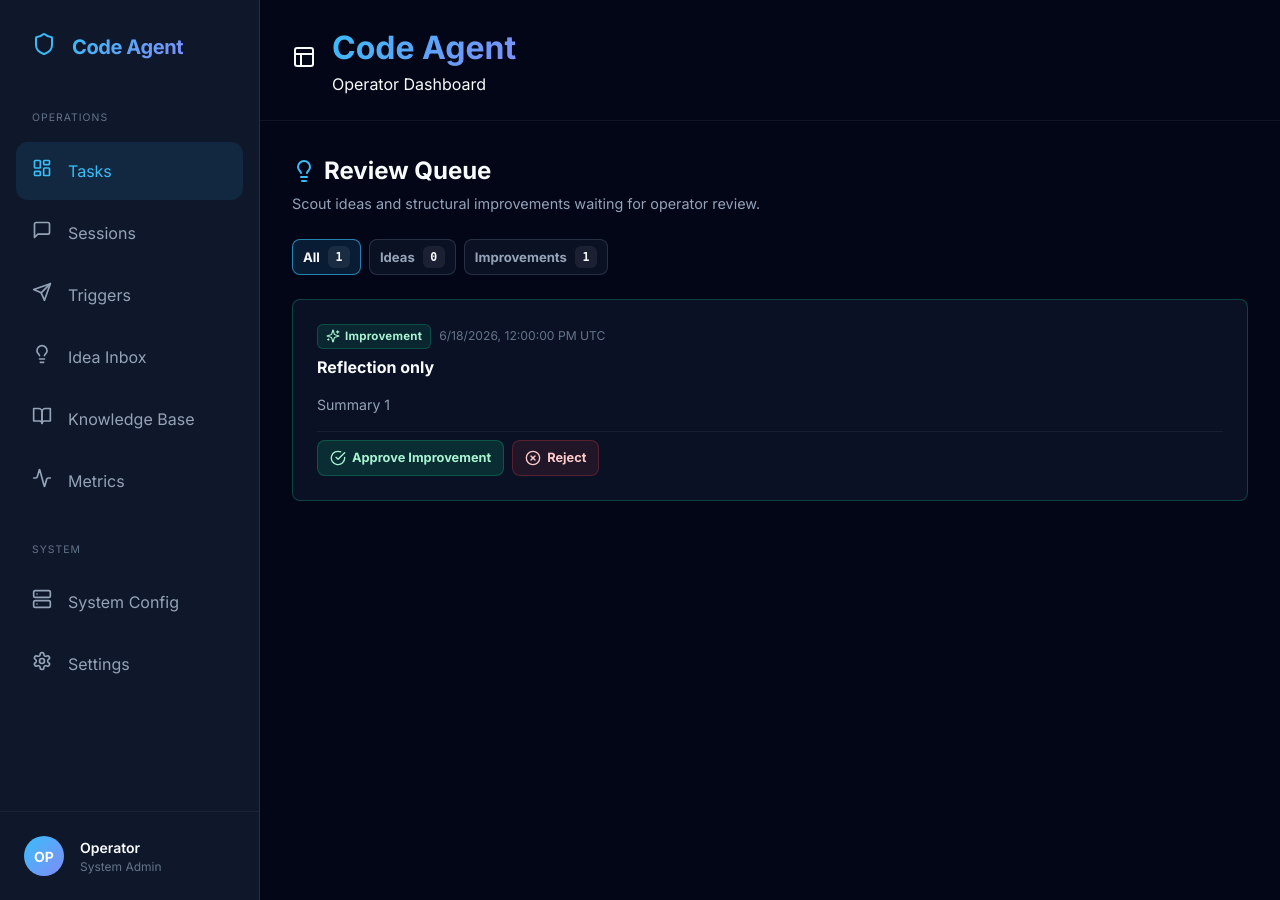
Test: IdeaInboxPage › uses filter-specific empty state labels
Expected: the heading "Reflection only" is shown, [317, 357, 434, 377]
Click the button with aria-label "Show ideas proposals": [412, 257] box [369, 239, 456, 275]
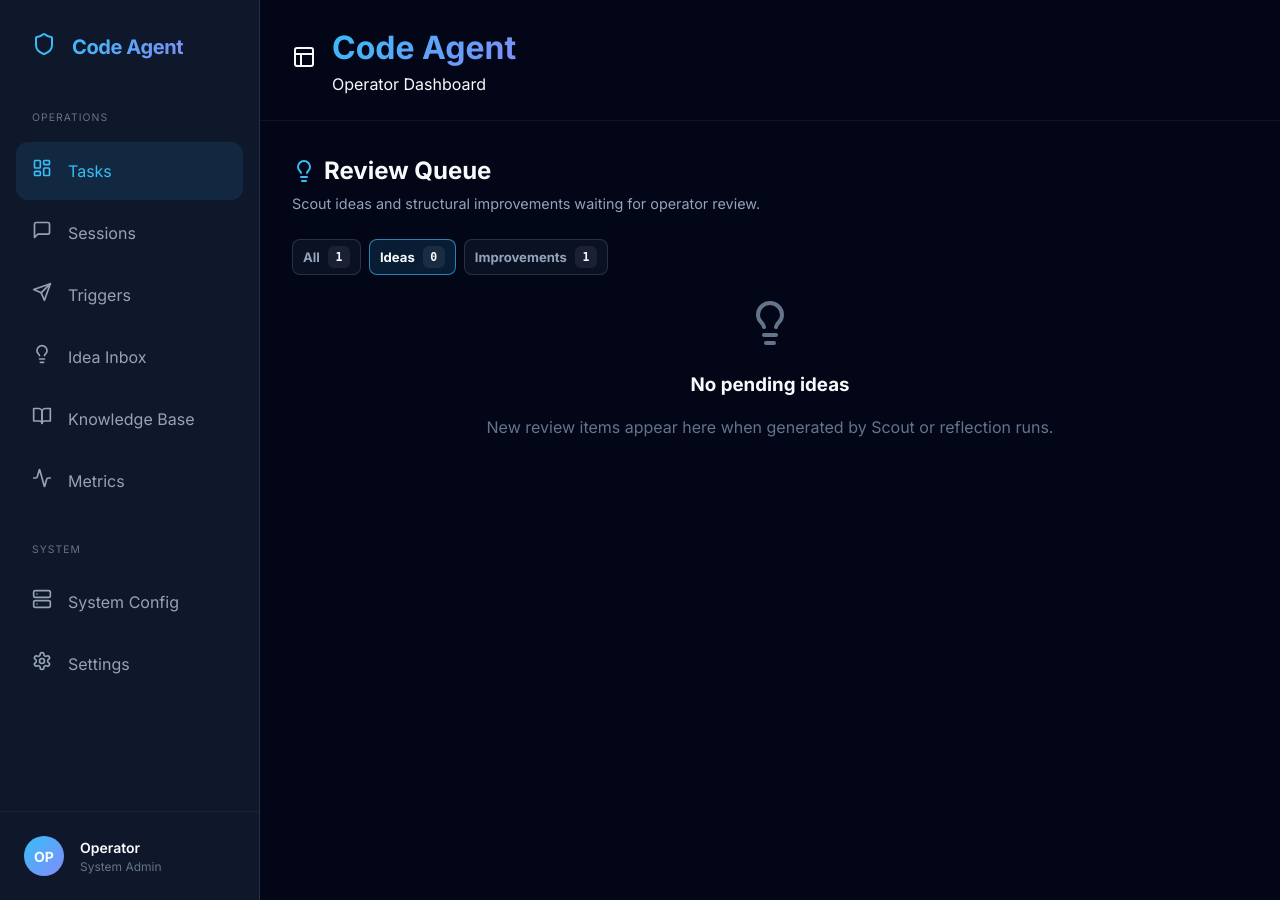
Expected: the heading "No pending ideas" is shown, [690, 371, 850, 399]
